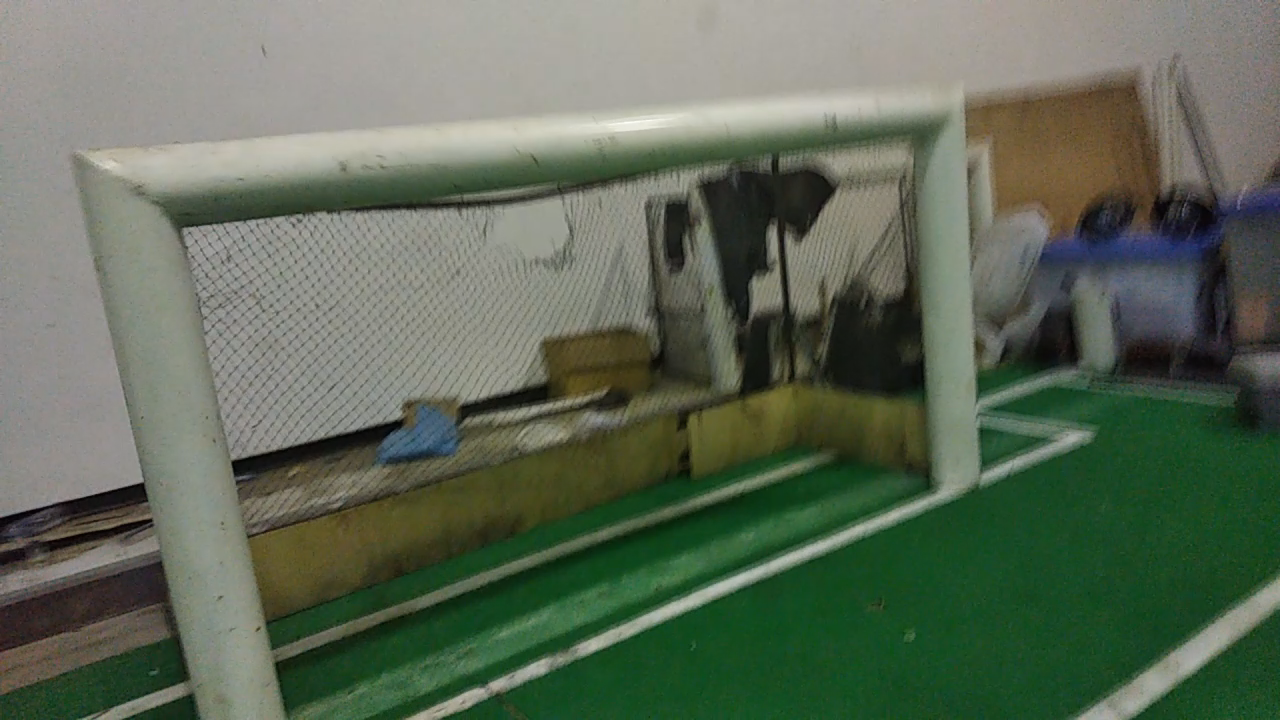gawang: (50, 67, 977, 716)
